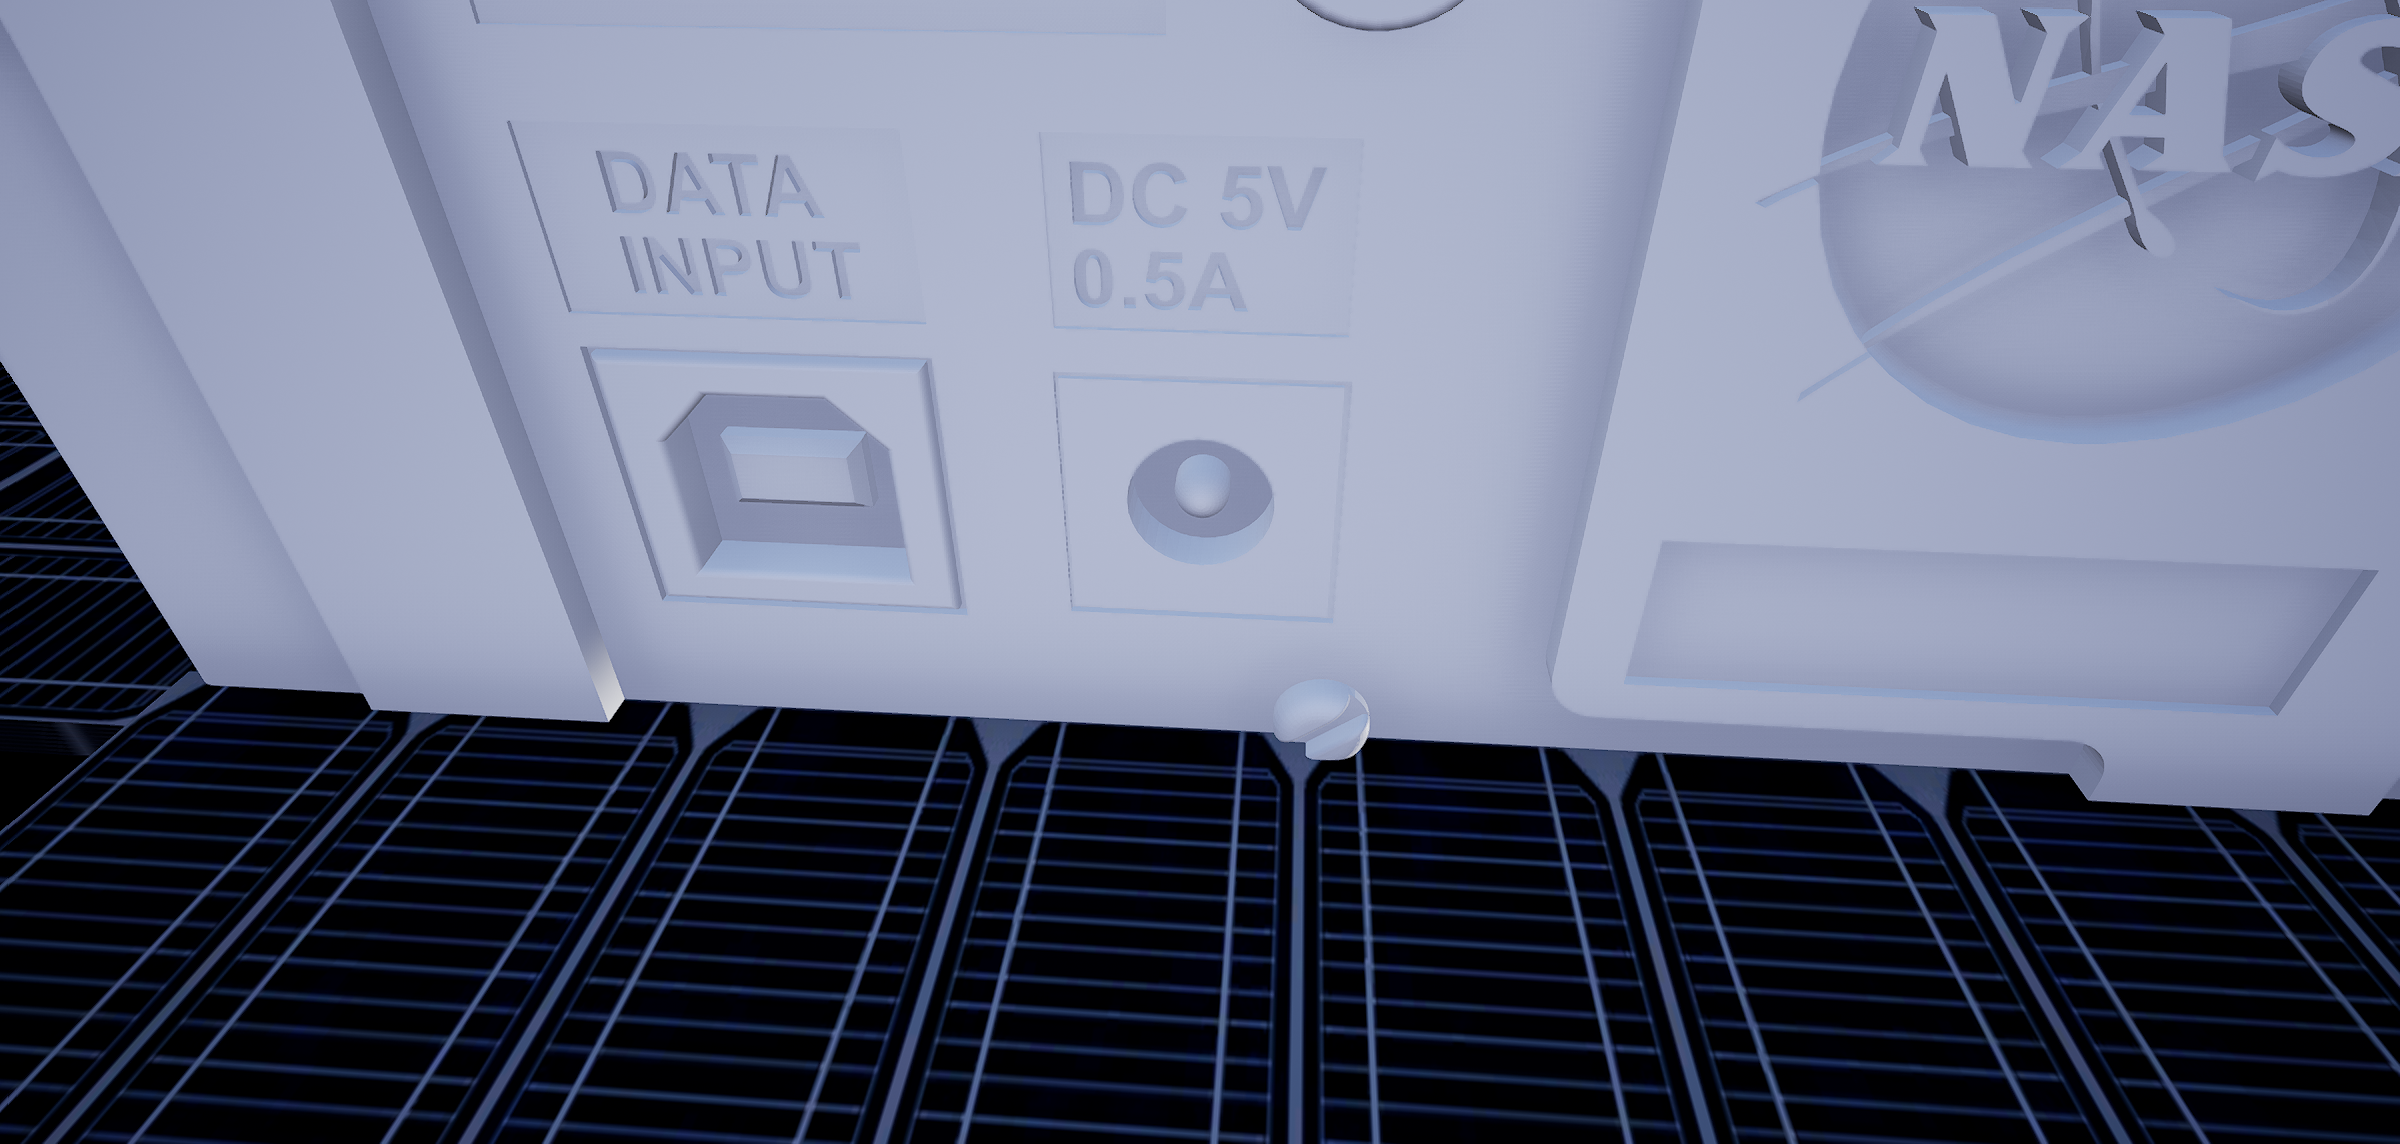dc: (1110, 427, 1284, 587)
usb: (654, 387, 926, 614)
